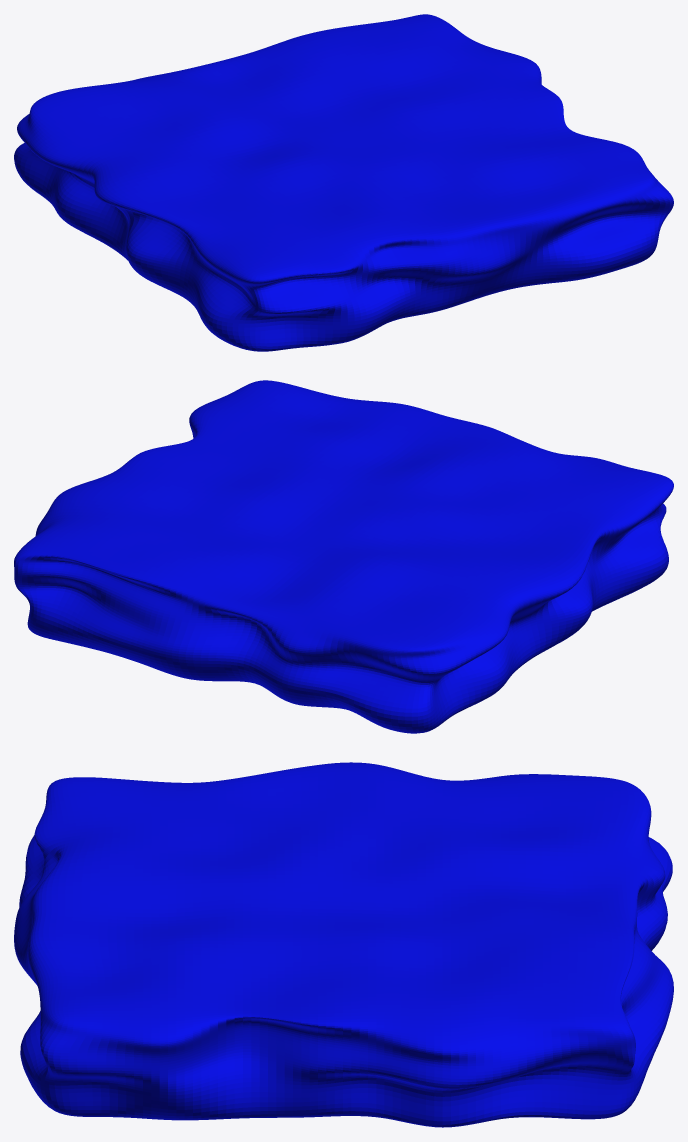
The model's file is Water Tile v4.fbx.
The picture shows the model from 3 angles, top to bottom: view 1: azimuth 30°, elevation 25°; view 2: azimuth 150°, elevation 25°; view 3: azimuth 270°, elevation 25°; orthographic projection. The views are drawn at different scales.
Visible parts, largest first — view 1: WaterTile; view 2: WaterTile; view 3: WaterTile.
Part boxes in pixels (bbox=[...]): WaterTile: bbox=[14, 14, 673, 351]; WaterTile: bbox=[14, 380, 673, 733]; WaterTile: bbox=[14, 762, 673, 1127].
Bounding box in the file's own units: 227 × 44.27 × 220.
